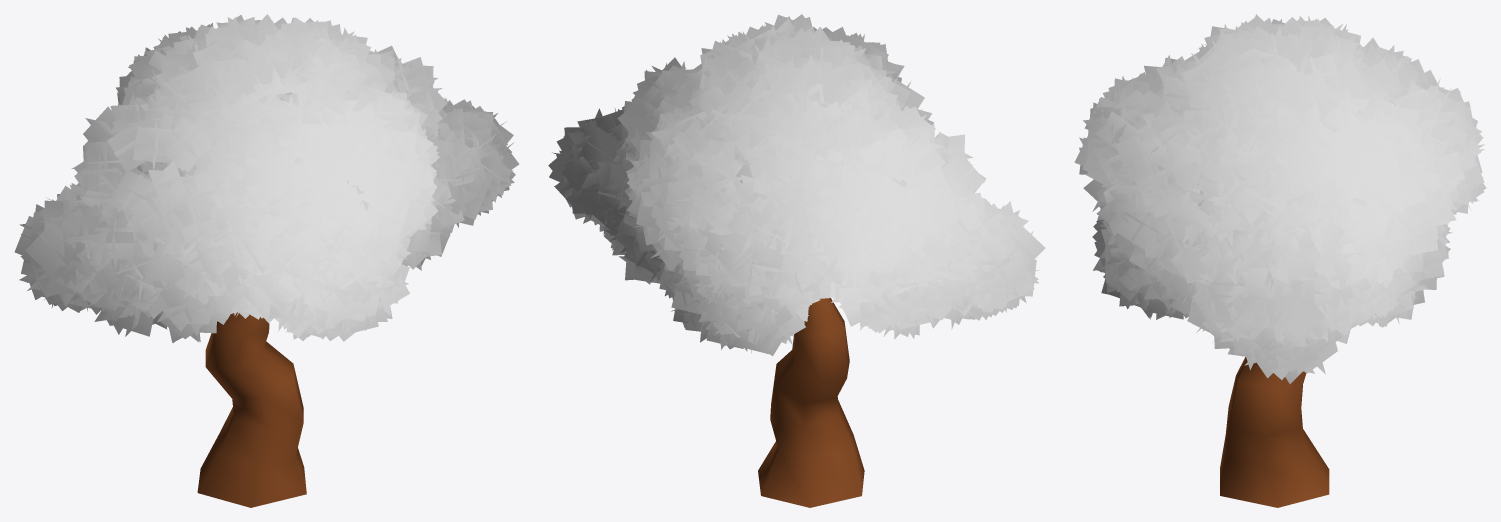
File: Huge_tree.fbx
3 renders of one model, left to right at view 1: azimuth 30°, elevation 25°; view 2: azimuth 150°, elevation 25°; view 3: azimuth 270°, elevation 25°, orthographic. The views are drawn at different scales.
Visible parts, largest first — view 1: Leaves, treeTrunk_big; view 2: Leaves, treeTrunk_big; view 3: Leaves, treeTrunk_big.
Boxes of the visible parts, x1=… form: Leaves: x1=14, y1=14, x2=519, y2=342; treeTrunk_big: x1=197, y1=312, x2=306, y2=507; Leaves: x1=548, y1=14, x2=1045, y2=355; treeTrunk_big: x1=758, y1=297, x2=864, y2=507; Leaves: x1=1074, y1=14, x2=1486, y2=383; treeTrunk_big: x1=1220, y1=357, x2=1329, y2=507.
Size of the model in its own units: 27.23 by 24.04 by 19.21.
